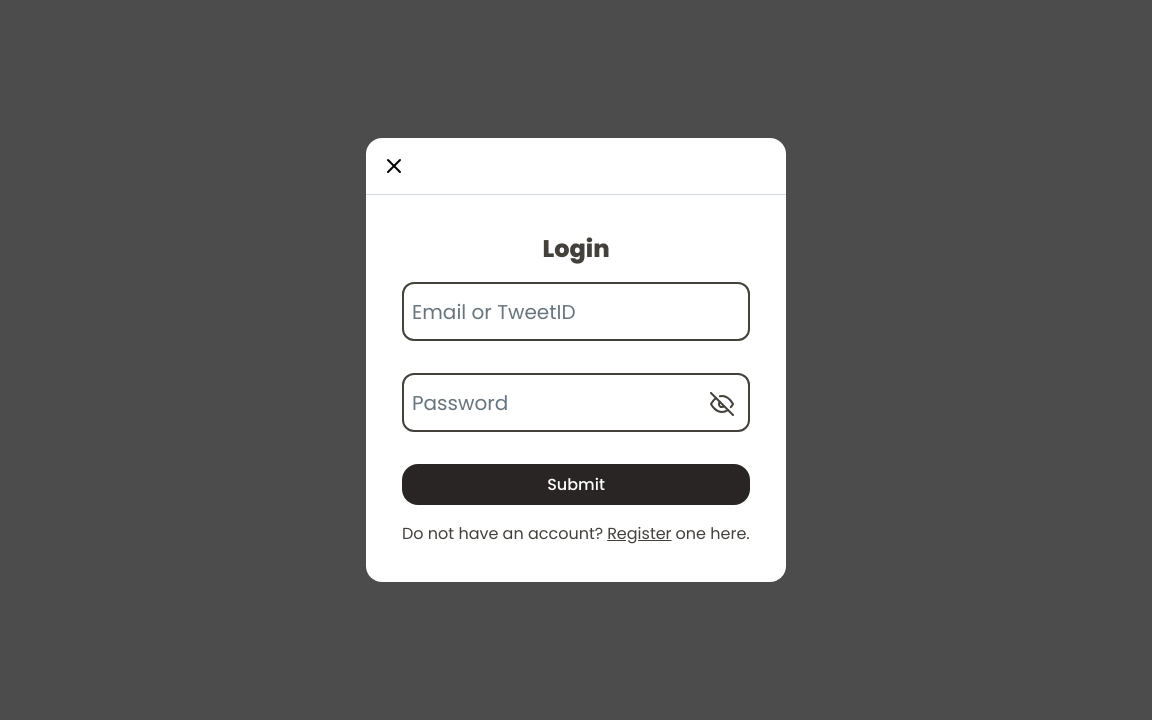
Test: invalid inputs › empty fields should give error
The width and height of the screenshot is (1152, 720).
What coordinates should you click on to do the following:
click the button "Submit"
I would click on:
 (576, 484)
Its box is [402, 464, 750, 505].
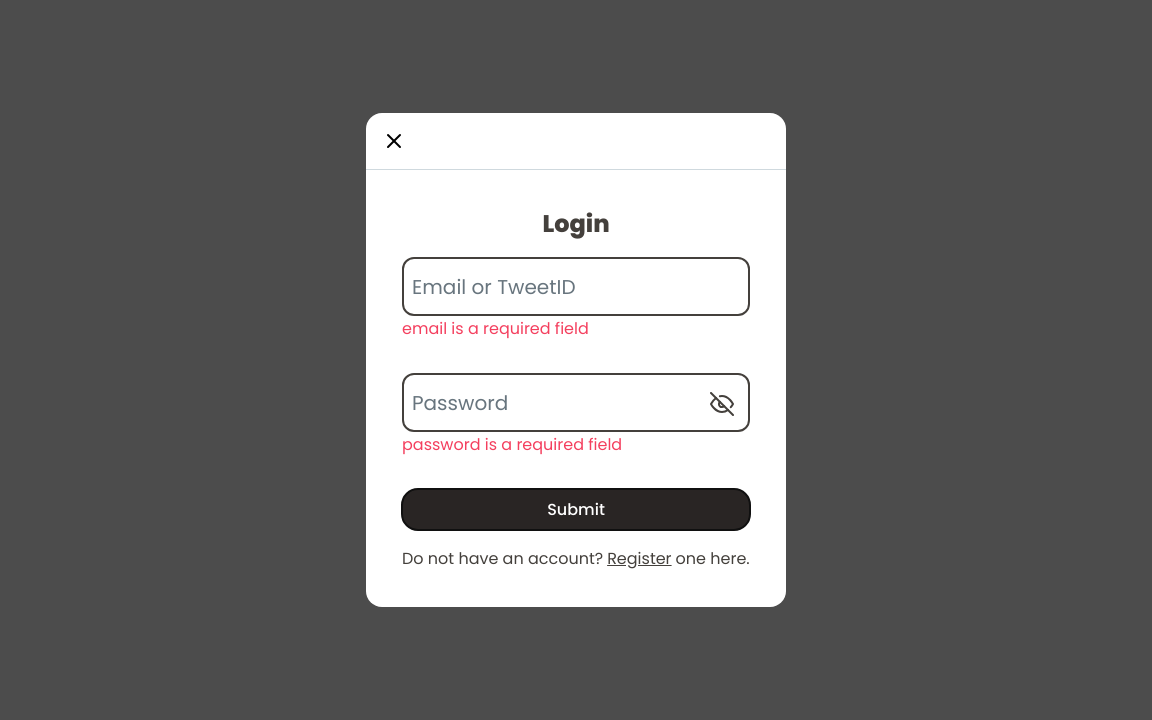
expect the text "email is a required field" is shown 2 times: met, box [402, 317, 589, 340]; [402, 433, 622, 456]
